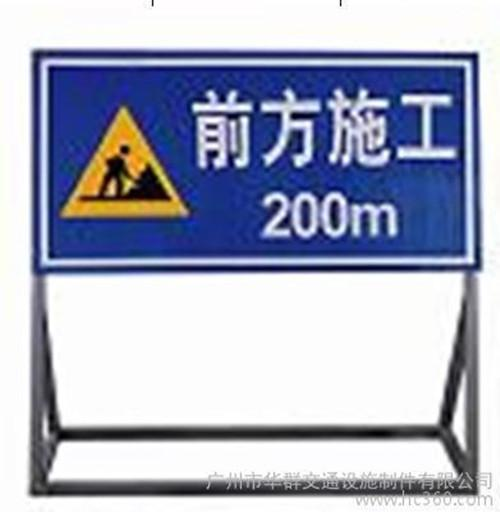sign: (33, 49, 482, 273)
